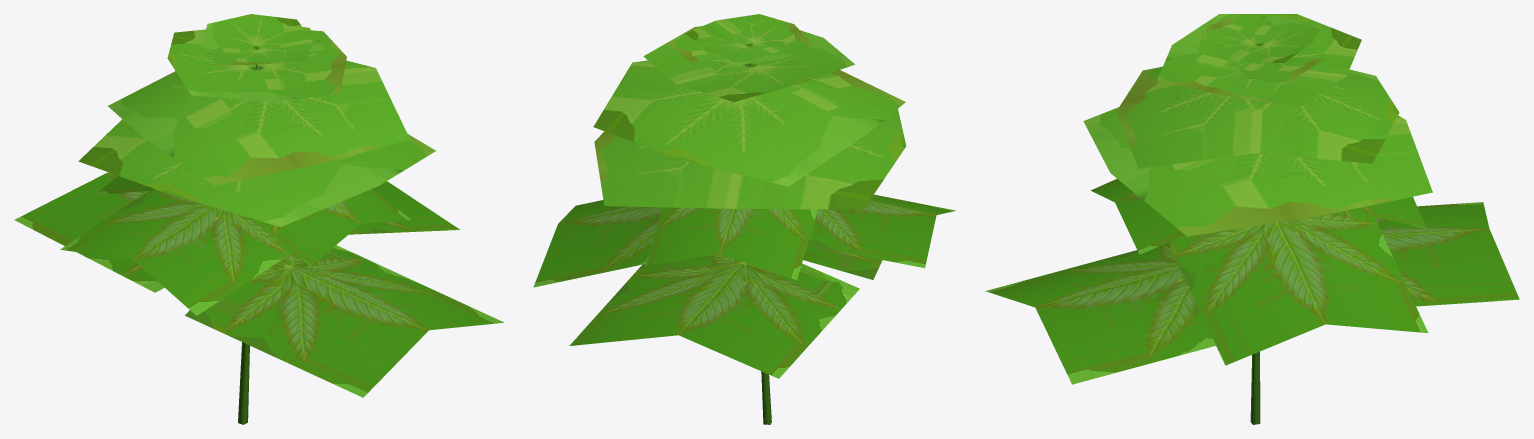
Rendered from CannabisStage02_02.fbx.
3 views of the same model, side by side, from view 1: azimuth 30°, elevation 25°; view 2: azimuth 150°, elevation 25°; view 3: azimuth 270°, elevation 25° (orthographic). The views are drawn at different scales.
Parts seen in each view (by area): view 1: CannabisStage02_02_LOD0; view 2: CannabisStage02_02_LOD0; view 3: CannabisStage02_02_LOD0.
Boxes of the visible parts, x1,y1,x2,y2 form: CannabisStage02_02_LOD0: [14, 14, 503, 424]; CannabisStage02_02_LOD0: [533, 14, 955, 424]; CannabisStage02_02_LOD0: [985, 14, 1519, 424].
Size of what is drawn, in the model's own units: 64.35 by 62.87 by 76.49.
